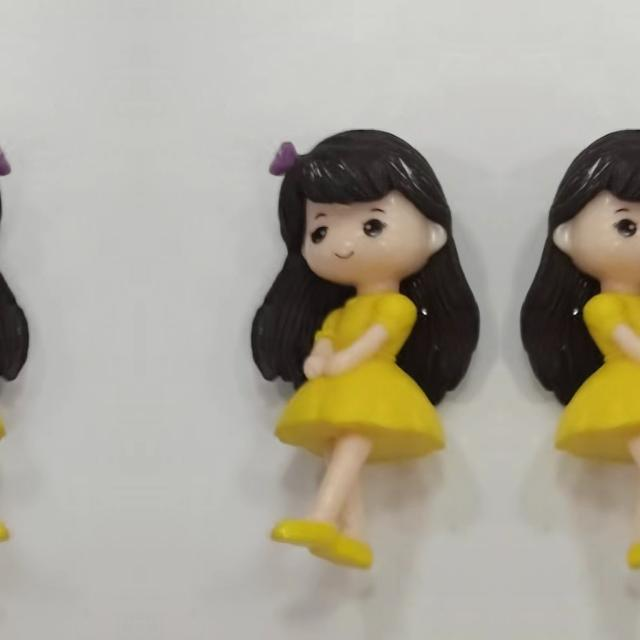woman dress: (255, 292, 488, 604), (512, 292, 640, 604), (0, 292, 25, 604)
woman head: (248, 122, 472, 294), (528, 122, 640, 294), (0, 122, 32, 294)
